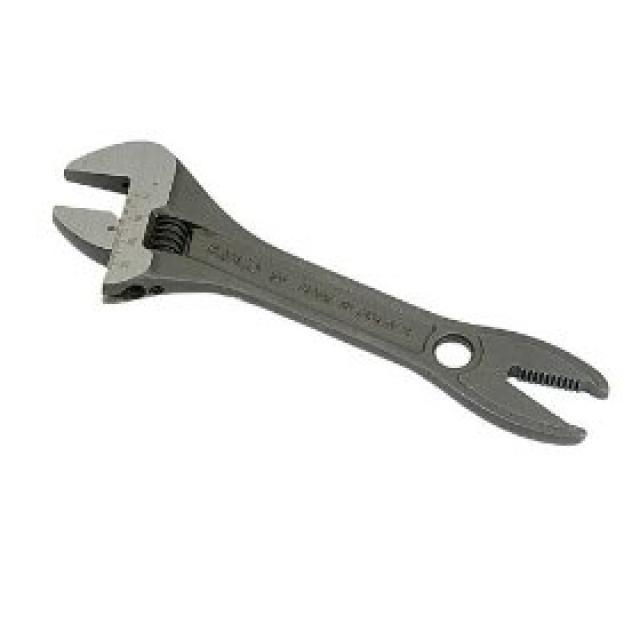wrench: (41, 124, 609, 473)
